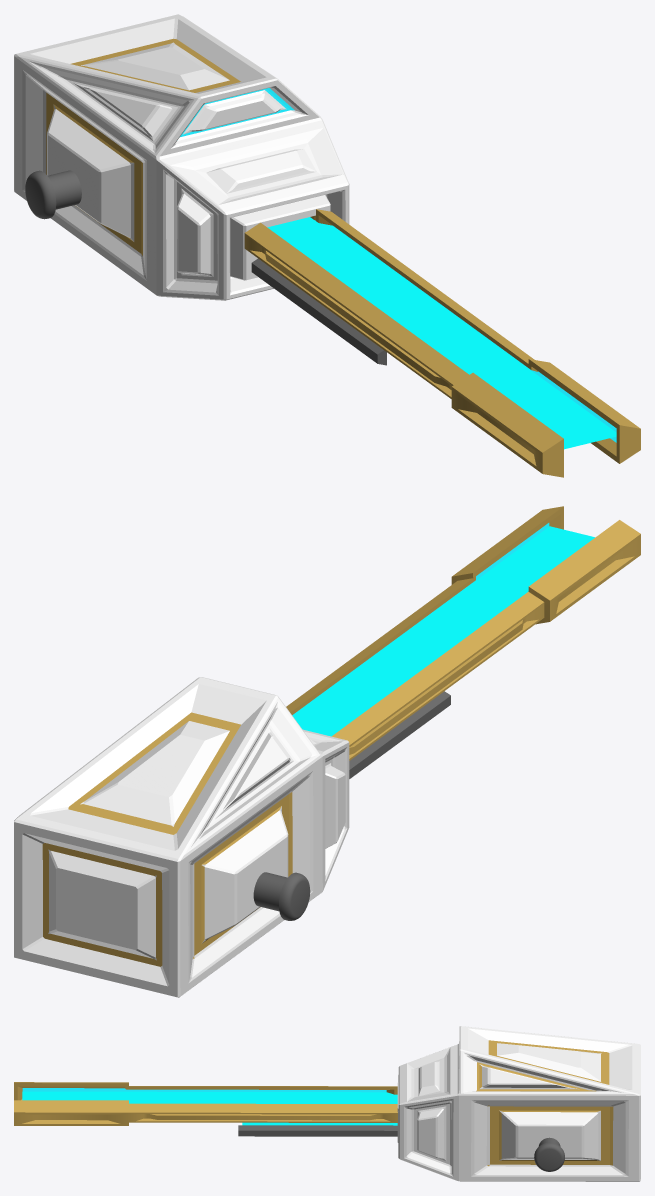
The model's file is railgun_gun.glb.
3 renders of one model, top to bottom at view 1: azimuth 30°, elevation 25°; view 2: azimuth 150°, elevation 25°; view 3: azimuth 270°, elevation 25°, orthographic. The views are drawn at different scales.
Visible parts, largest first — view 1: gun_body, gun_barrel, magnetic_field, lower_support, leg_holders; view 2: gun_body, gun_barrel, magnetic_field, leg_holders, lower_support; view 3: gun_body, gun_barrel, magnetic_field, lower_support, leg_holders, Plane.001.
Boxes of the visible parts, x1,y1,x2,y2 form: gun_body: [14, 14, 349, 300]; gun_barrel: [244, 209, 640, 477]; magnetic_field: [267, 217, 616, 449]; lower_support: [251, 258, 386, 365]; leg_holders: [25, 170, 81, 219]; gun_body: [14, 677, 349, 997]; gun_barrel: [286, 506, 640, 760]; magnetic_field: [292, 526, 594, 736]; leg_holders: [253, 872, 310, 920]; lower_support: [349, 691, 450, 778]; gun_body: [397, 1026, 640, 1181]; gun_barrel: [14, 1082, 397, 1125]; magnetic_field: [22, 1091, 397, 1103]; lower_support: [238, 1125, 397, 1136]; leg_holders: [534, 1137, 564, 1171]; Plane.001: [242, 1122, 397, 1125].
Bounding box in the file's own units: 0.3998 × 0.2961 × 1.29.
